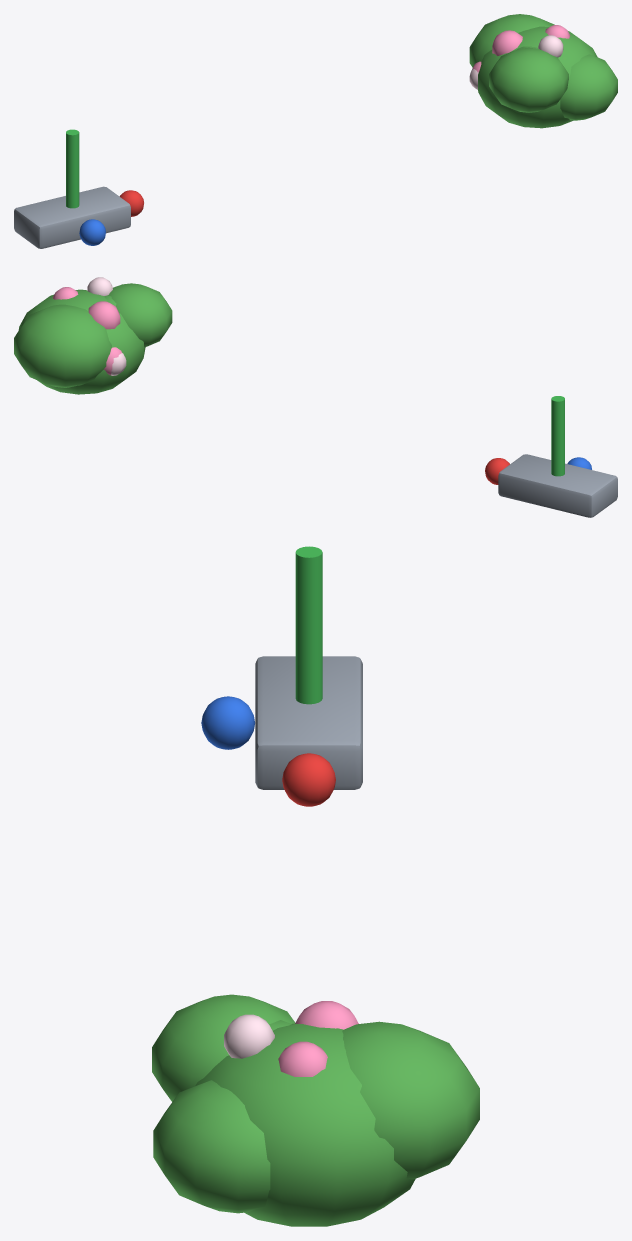
The model's file is W2_ImportTest.fbx.
The picture shows the model from 3 angles, top to bottom: view 1: azimuth 30°, elevation 25°; view 2: azimuth 150°, elevation 25°; view 3: azimuth 270°, elevation 25°; orthographic projection. The views are drawn at different scales.
Visible parts, largest first — view 1: BlossomBush__Leaves__5FB35ASP, W2Test_Axis__Base__9AA3B0SP, W2Test_Axis__Up__49C25BSP, BlossomBush__Blossoms__FF9CC6SP, W2Test_Axis__FrontMinusY__3A7BEASP, BlossomBush__Blossoms__FFE3EFSP, W2Test_Axis__PlusX__E8413CSP; view 2: BlossomBush__Leaves__5FB35ASP, W2Test_Axis__Base__9AA3B0SP, BlossomBush__Blossoms__FF9CC6SP, W2Test_Axis__Up__49C25BSP, BlossomBush__Blossoms__FFE3EFSP, W2Test_Axis__PlusX__E8413CSP; view 3: BlossomBush__Leaves__5FB35ASP, W2Test_Axis__Base__9AA3B0SP, W2Test_Axis__Up__49C25BSP, BlossomBush__Blossoms__FF9CC6SP, W2Test_Axis__PlusX__E8413CSP, W2Test_Axis__FrontMinusY__3A7BEASP, BlossomBush__Blossoms__FFE3EFSP.
Part boxes in pixels (<box>): BlossomBush__Leaves__5FB35ASP: <box>469,14,617,128</box>; W2Test_Axis__Base__9AA3B0SP: <box>14,186,130,248</box>; W2Test_Axis__Up__49C25BSP: <box>66,129,79,208</box>; BlossomBush__Blossoms__FF9CC6SP: <box>472,25,570,72</box>; W2Test_Axis__FrontMinusY__3A7BEASP: <box>79,219,105,245</box>; BlossomBush__Blossoms__FFE3EFSP: <box>469,35,563,89</box>; W2Test_Axis__PlusX__E8413CSP: <box>119,190,143,216</box>; BlossomBush__Leaves__5FB35ASP: <box>14,283,172,394</box>; W2Test_Axis__Base__9AA3B0SP: <box>498,454,617,517</box>; BlossomBush__Blossoms__FF9CC6SP: <box>52,287,121,375</box>; W2Test_Axis__Up__49C25BSP: <box>551,396,564,476</box>; BlossomBush__Blossoms__FFE3EFSP: <box>87,277,126,375</box>; W2Test_Axis__PlusX__E8413CSP: <box>485,458,509,484</box>; BlossomBush__Leaves__5FB35ASP: <box>152,994,479,1226</box>; W2Test_Axis__Base__9AA3B0SP: <box>255,656,362,789</box>; W2Test_Axis__Up__49C25BSP: <box>295,546,322,704</box>; BlossomBush__Blossoms__FF9CC6SP: <box>278,1001,358,1076</box>; W2Test_Axis__PlusX__E8413CSP: <box>282,753,335,806</box>; W2Test_Axis__FrontMinusY__3A7BEASP: <box>201,696,254,749</box>; BlossomBush__Blossoms__FFE3EFSP: <box>224,1014,274,1058</box>.
Bounding box in the file's own units: 24.37 × 4.2 × 6.09.
